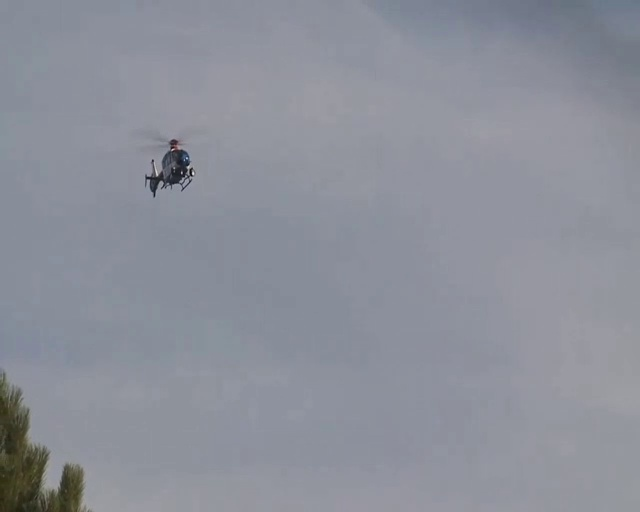HELICOPTER: (137, 135, 196, 198)
